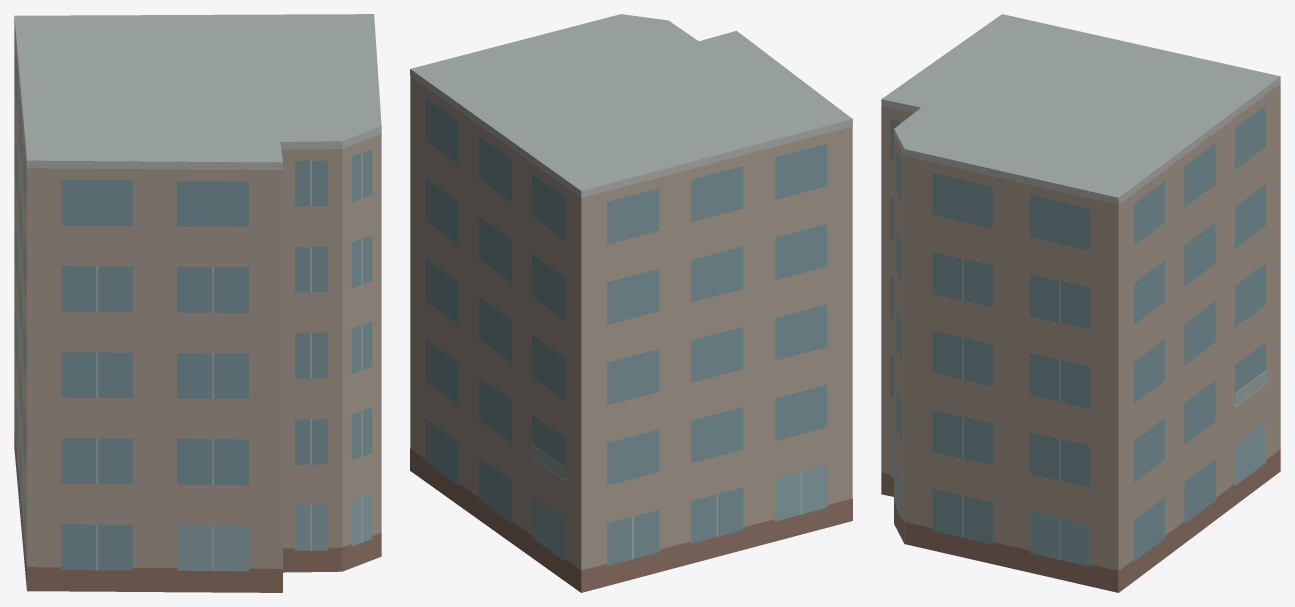
Rendered from survey-upis-32976125.glb.
3 renders of one model, left to right at view 1: azimuth 30°, elevation 25°; view 2: azimuth 150°, elevation 25°; view 3: azimuth 270°, elevation 25°, orthographic. The views are drawn at different scales.
Parts seen in each view (by area): view 1: survey-upis-32976125.tmp; view 2: survey-upis-32976125.tmp; view 3: survey-upis-32976125.tmp.
Part boxes in pixels (x1,y1,x2,y2): survey-upis-32976125.tmp: [14, 14, 381, 592]; survey-upis-32976125.tmp: [410, 14, 852, 592]; survey-upis-32976125.tmp: [881, 14, 1280, 592].
Size of the model in its own units: 13.68 by 13.7 by 12.56.
